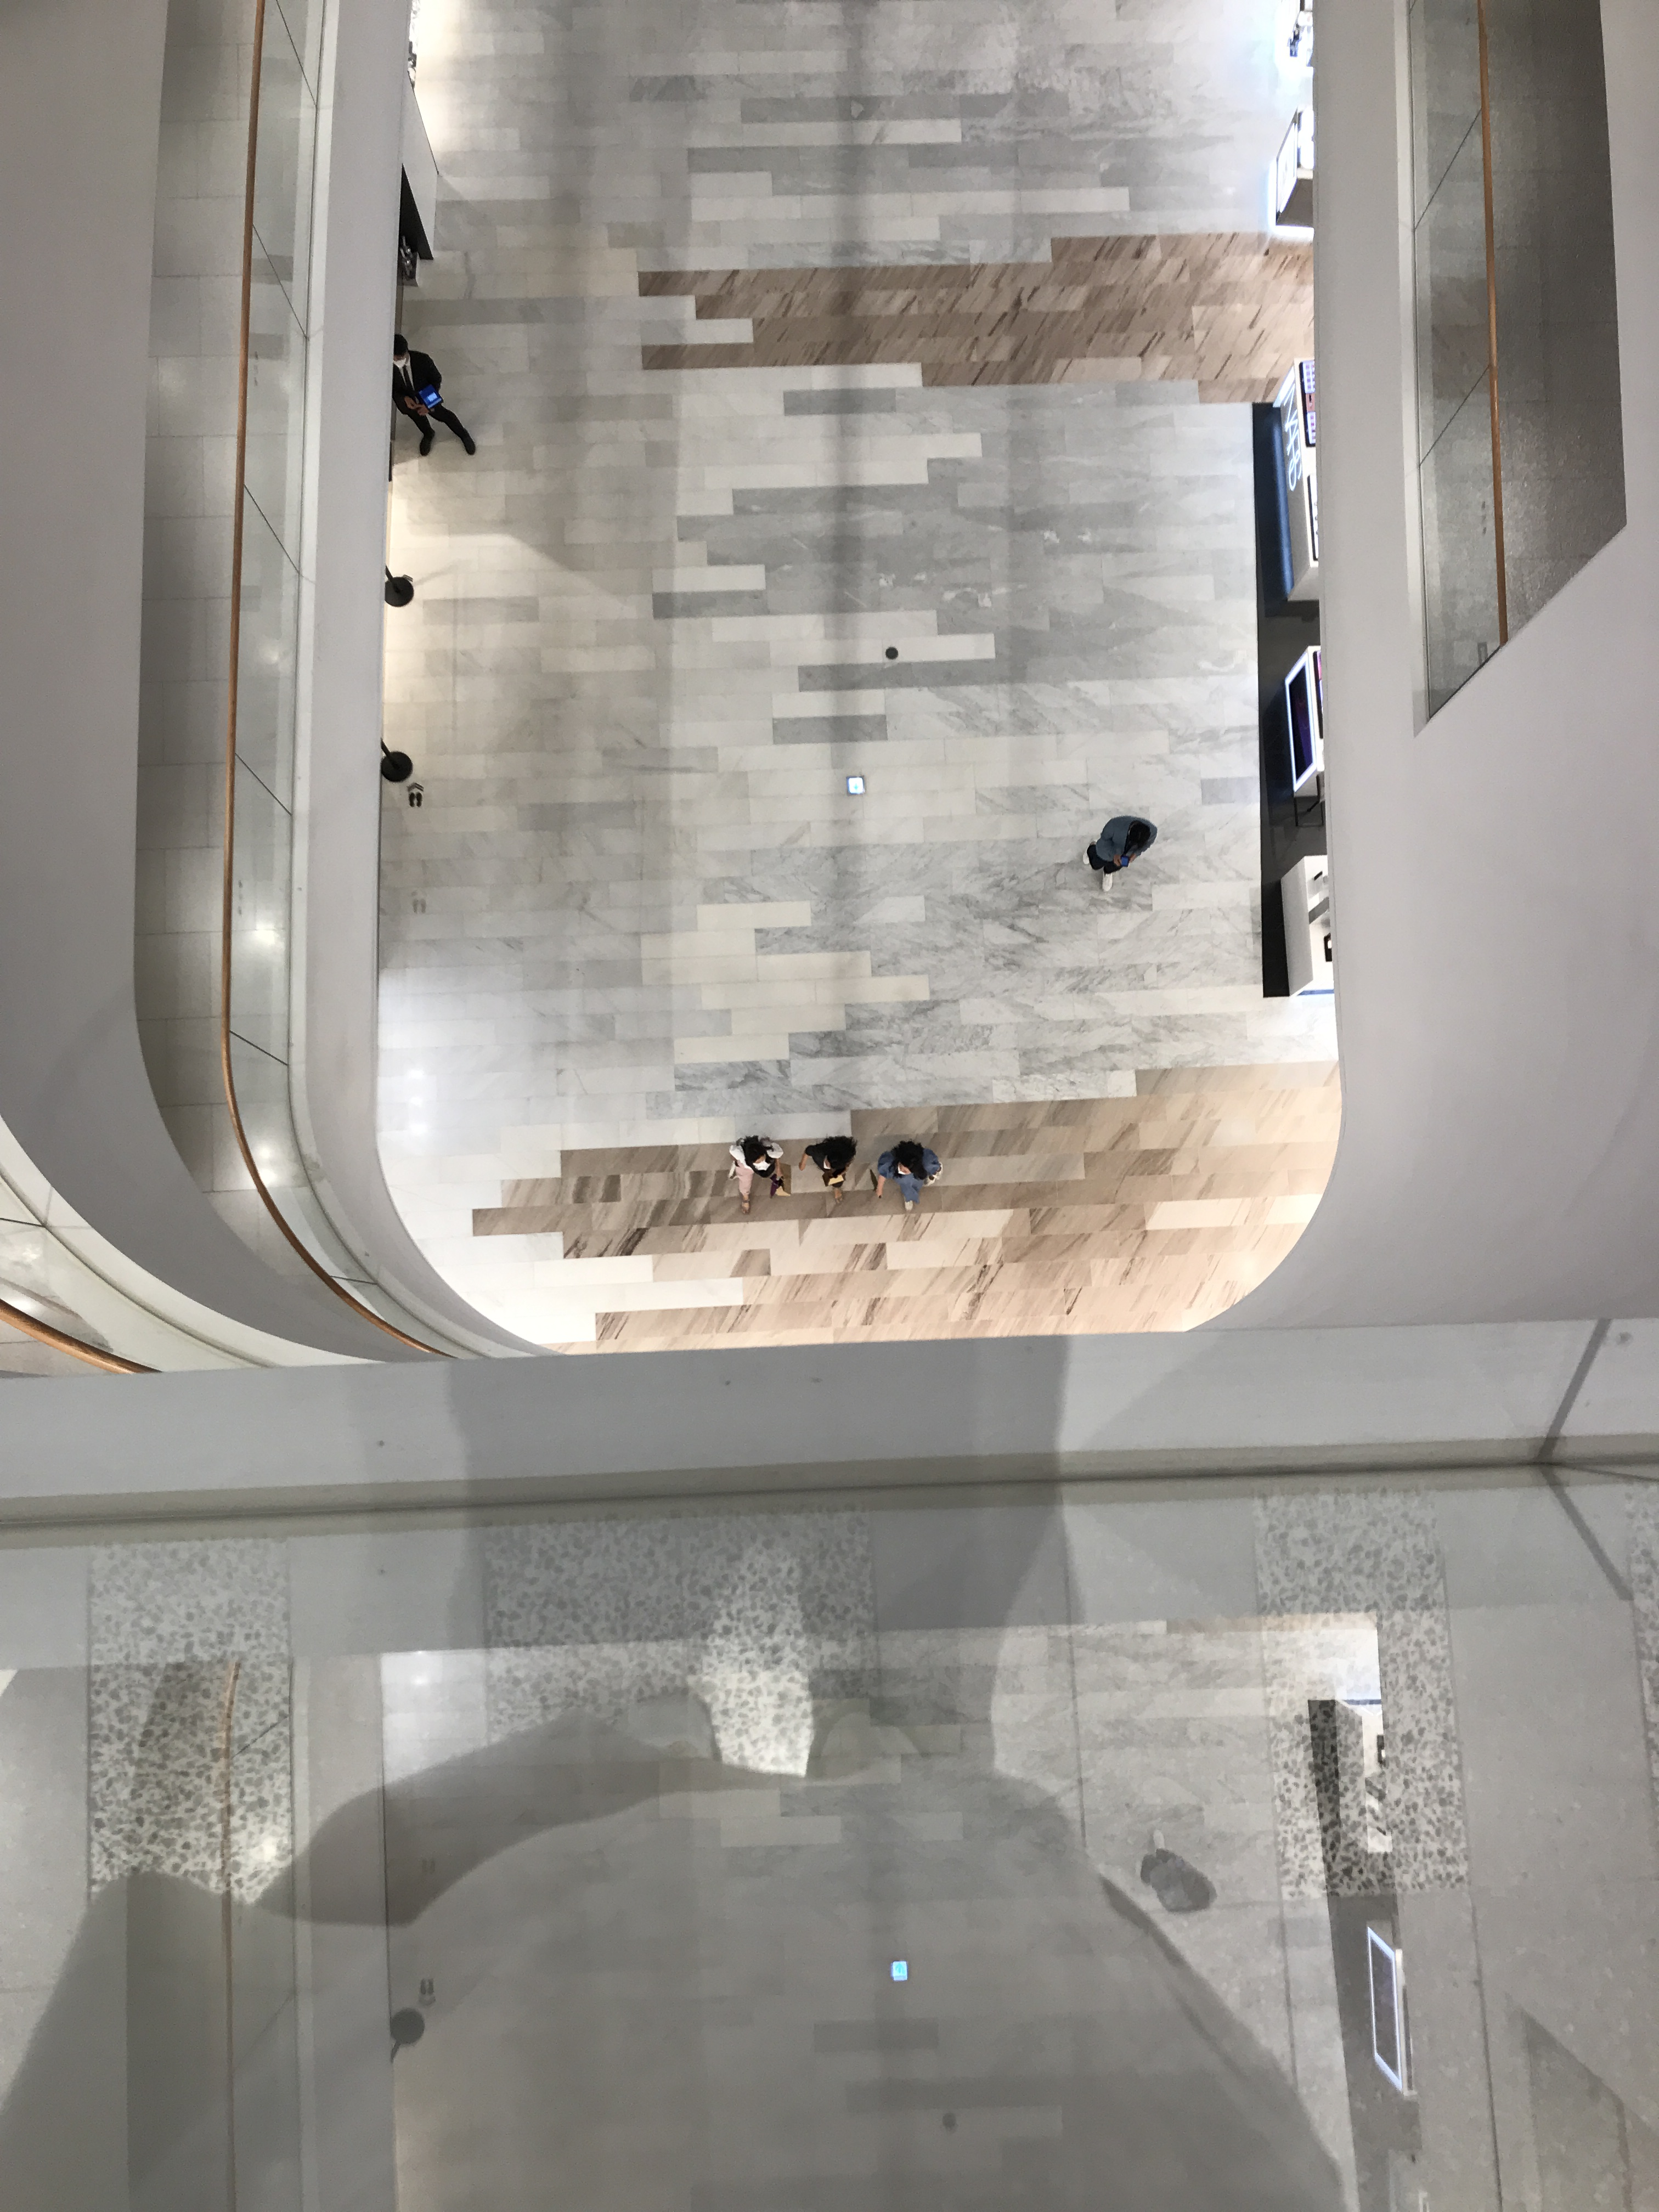person: (391, 333, 480, 459), (1080, 812, 1161, 893), (871, 1139, 946, 1214), (725, 1132, 784, 1214), (797, 1132, 859, 1205)
